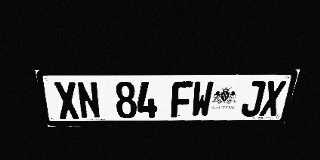4: (137, 81, 157, 118)
8: (115, 81, 137, 118)
F: (171, 81, 193, 118)
J: (240, 81, 267, 116)
N: (76, 82, 101, 119)
W: (191, 81, 214, 117)
X: (259, 80, 287, 116), (53, 82, 80, 119)
